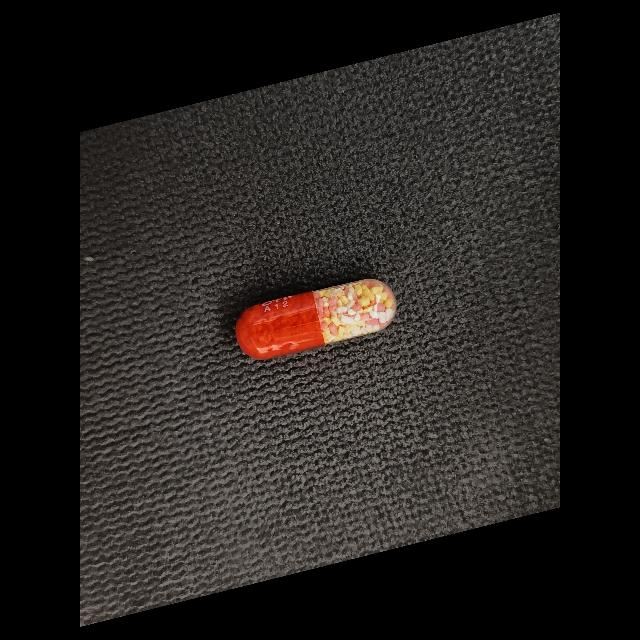Intact Capsule: (235, 279, 396, 360)
